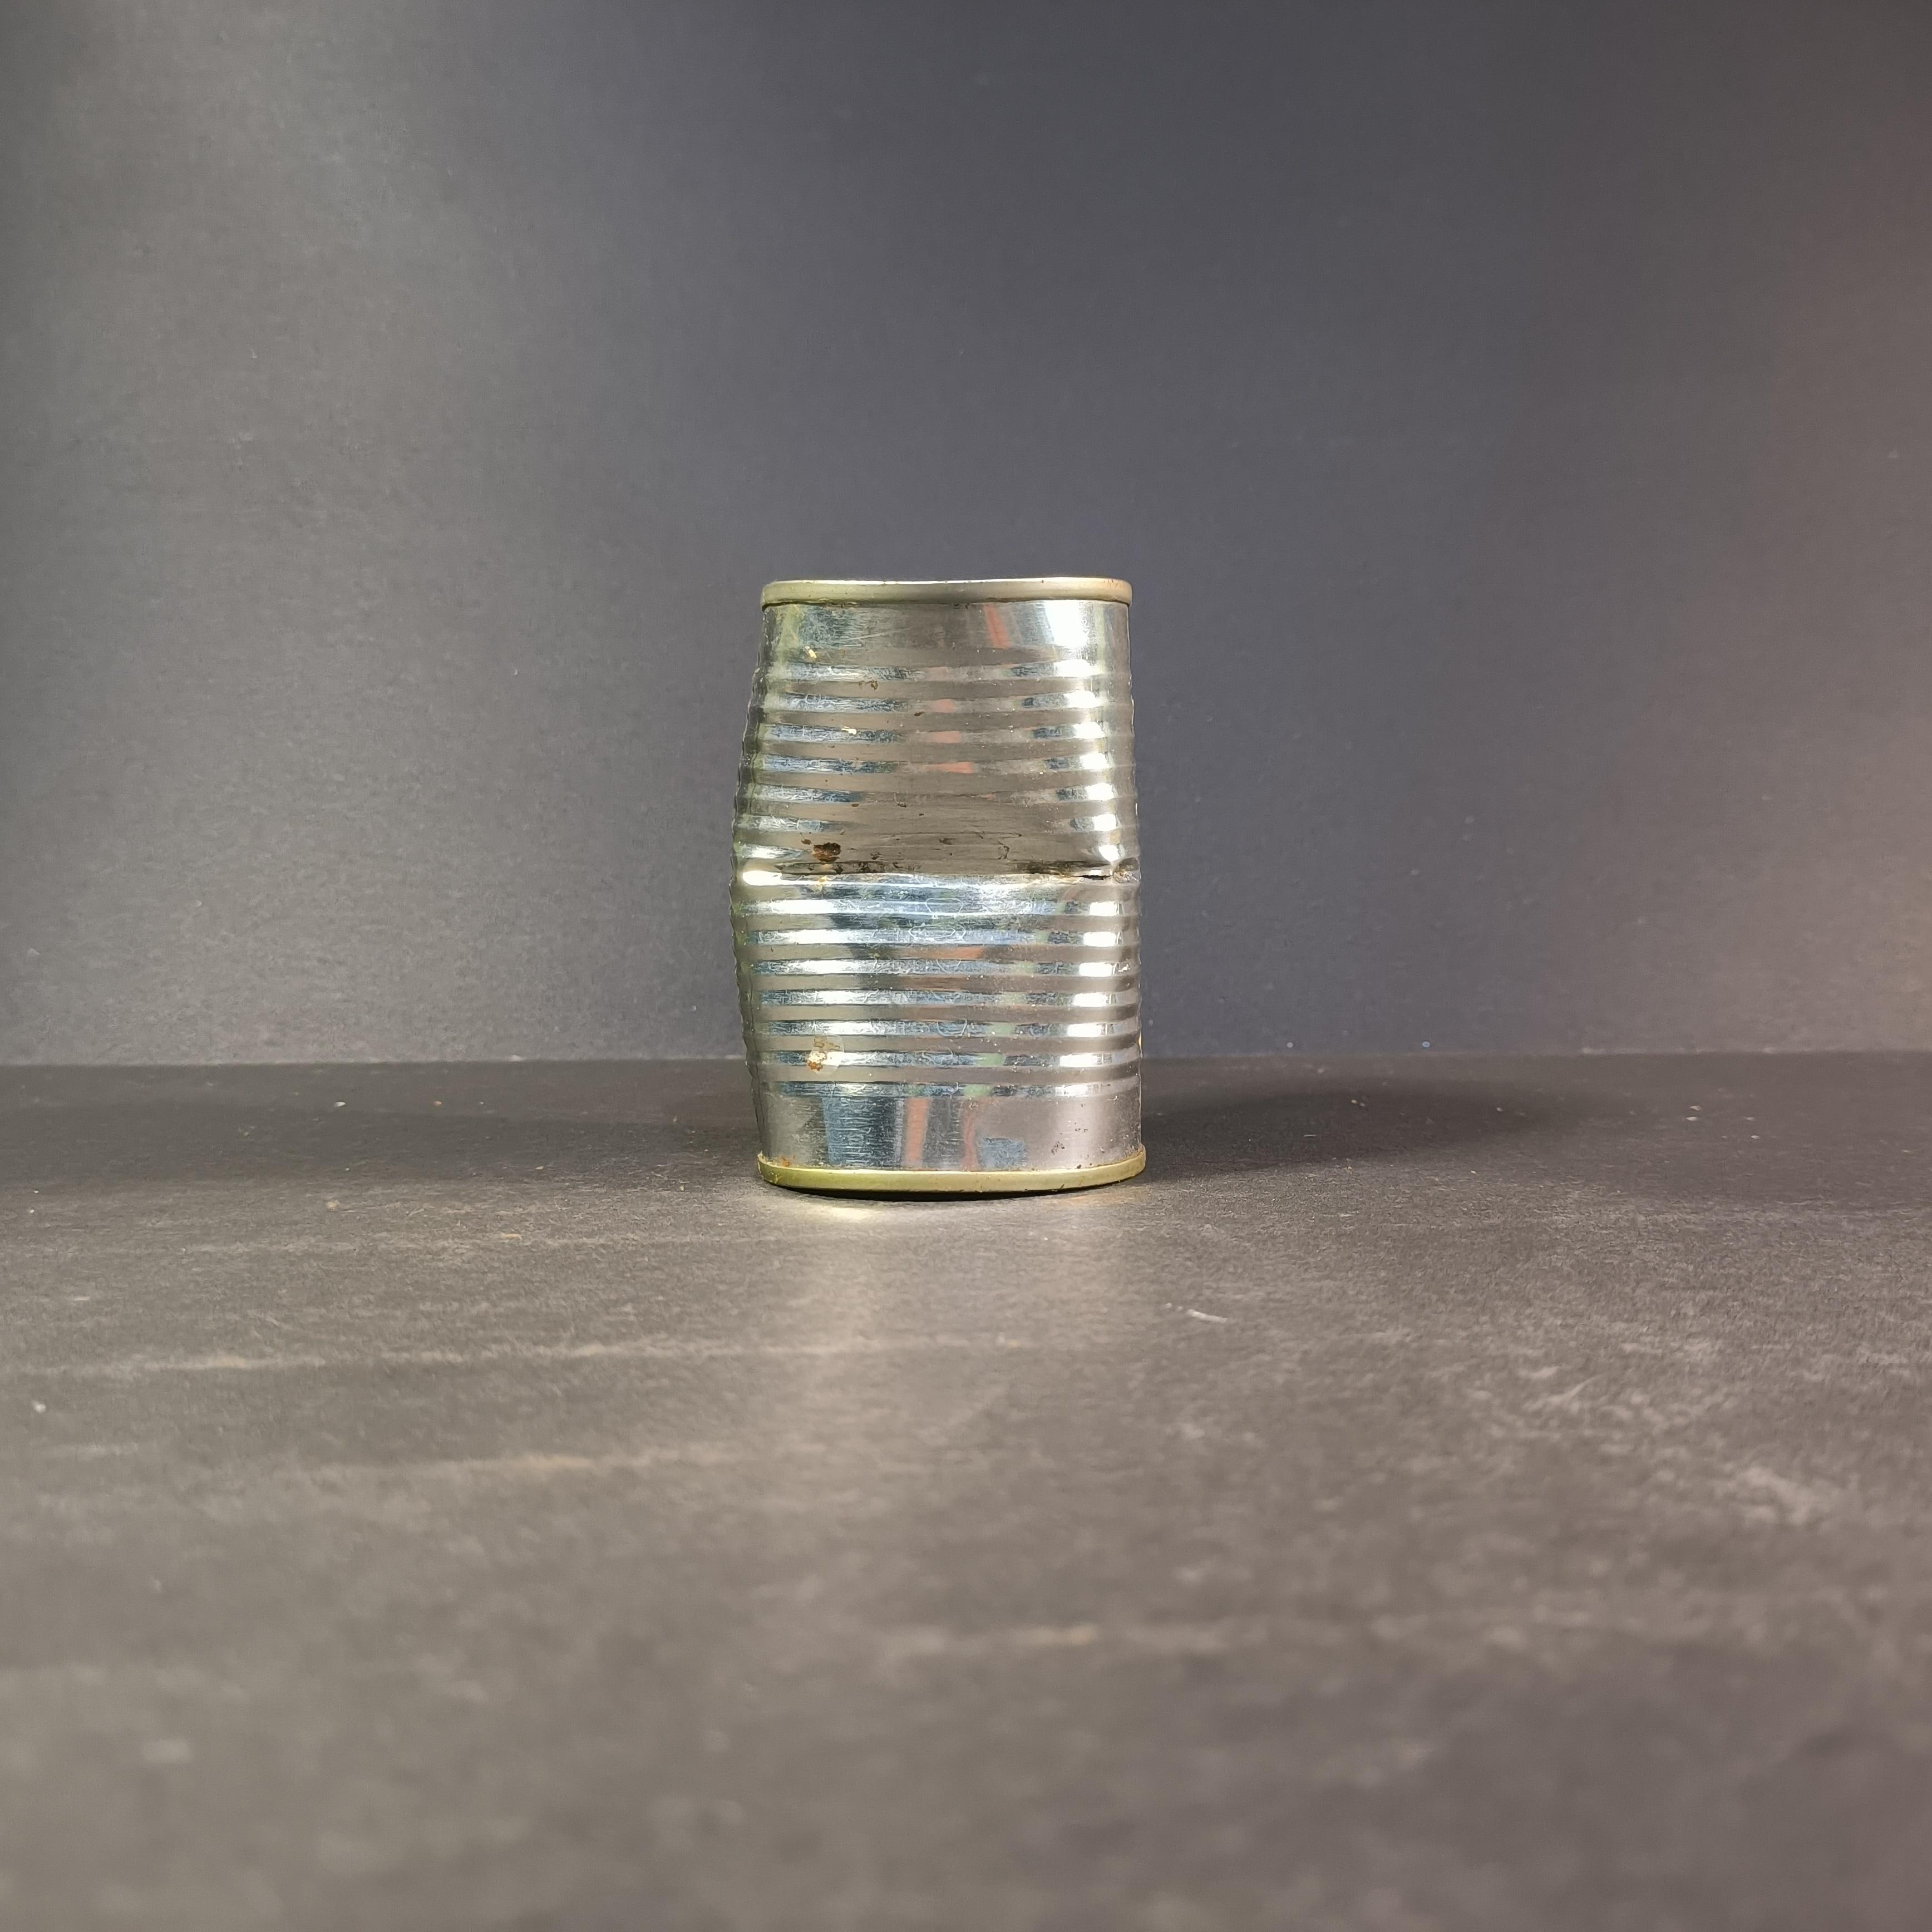Dented: (694, 554, 1162, 1214)
